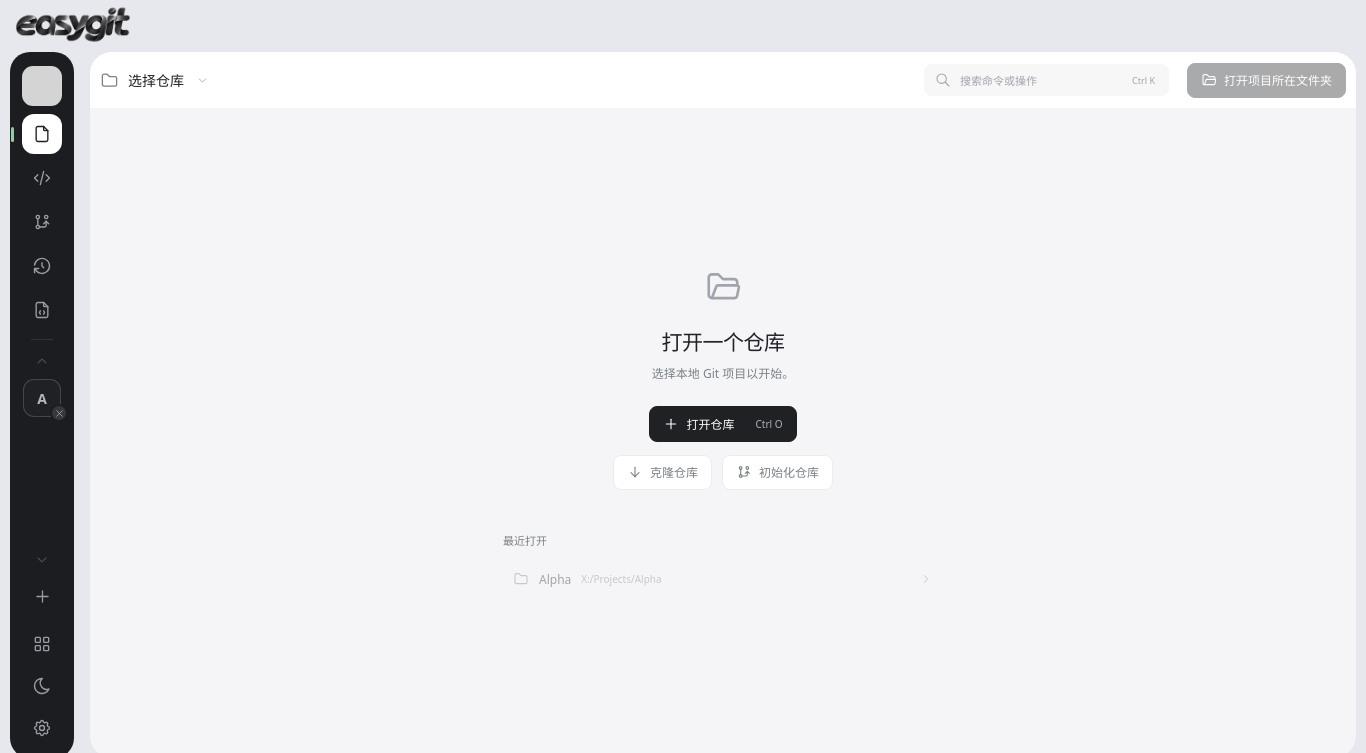
Test: 冲突解决流程 › 版本源码显示行号、差异高亮和对齐占位，跳转差异时同步两侧位置
Click the button "A" at x=42, y=398, box [23, 379, 61, 417]
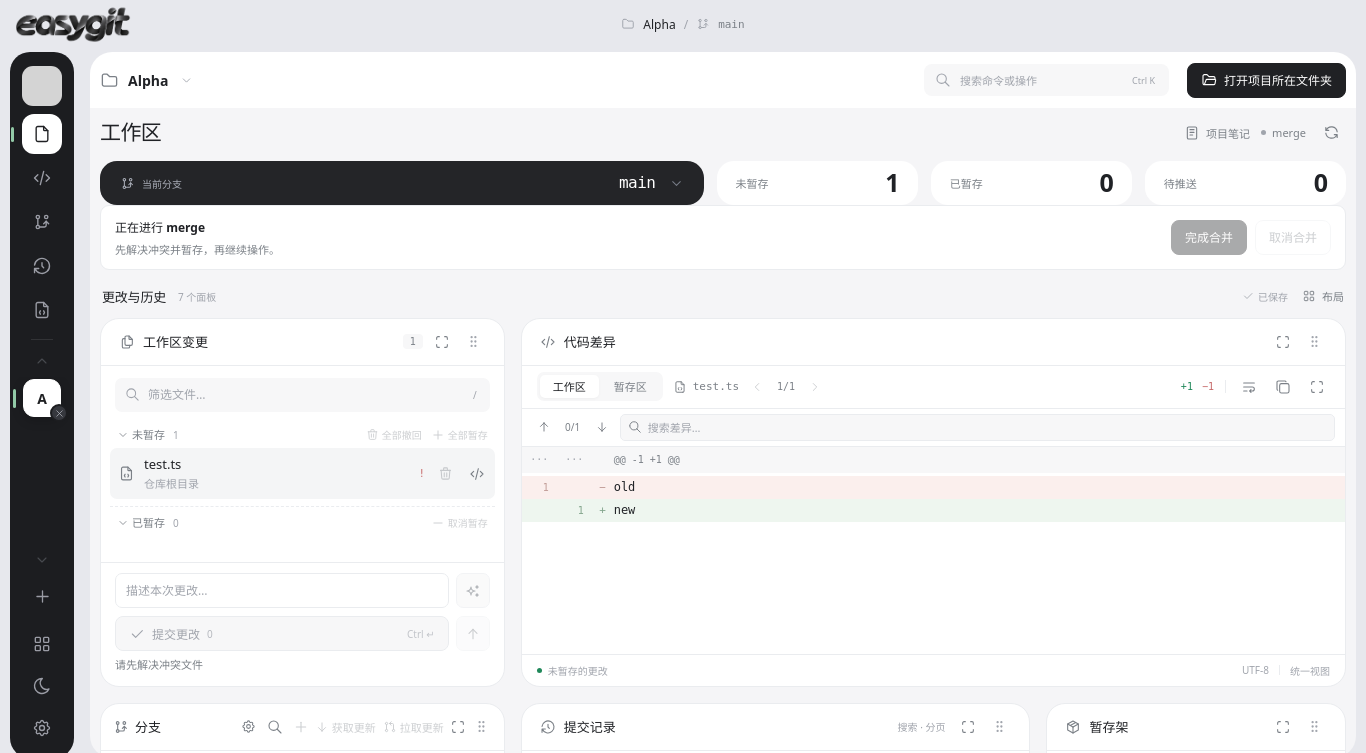
Click the button named "解决冲突 test.ts" at x=477, y=474, box [464, 460, 490, 488]
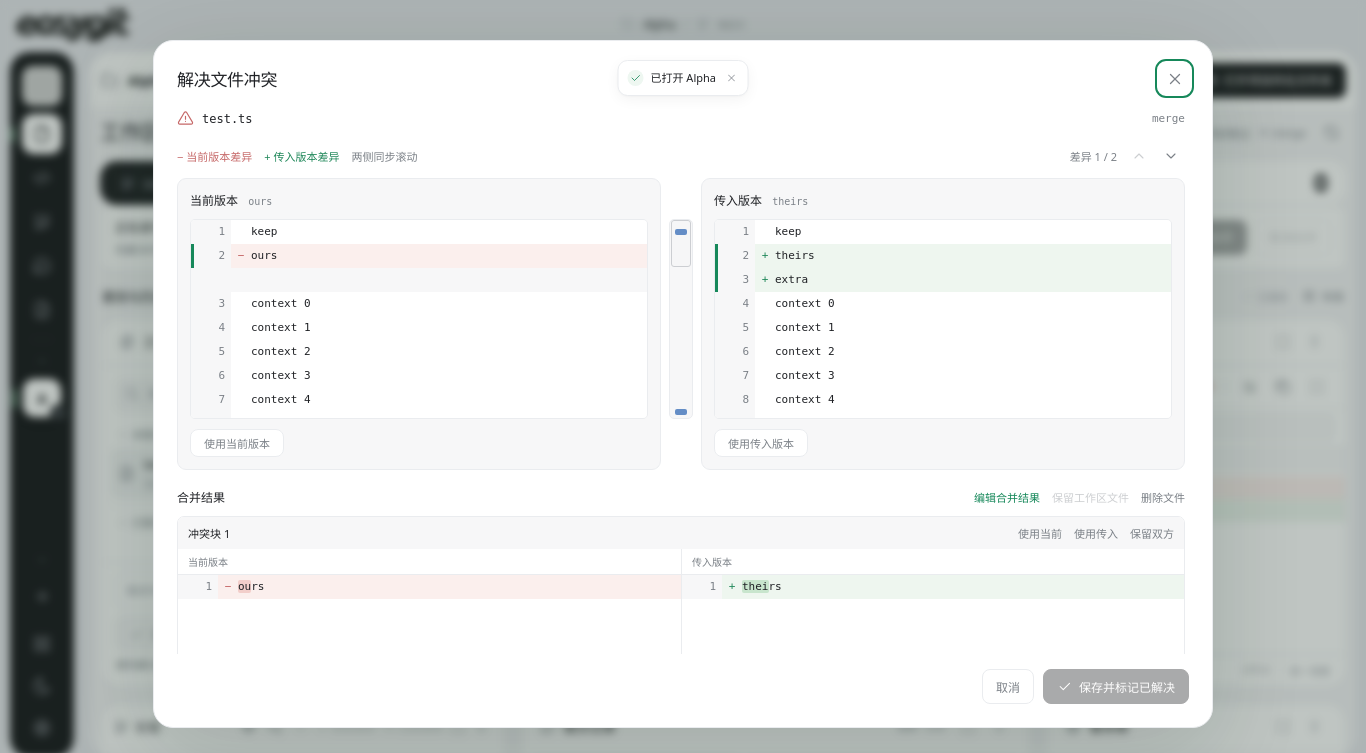
Check: the 2nd text "ours" is shown, box [251, 249, 278, 262]
Check: the 2nd text "theirs" is shown, box [775, 249, 815, 262]
Check: the 1st text with class "conflict-line-number" reads "2", box [218, 249, 225, 262]
Click the button named "下一处差异" at x=1171, y=156, box [1157, 142, 1185, 170]
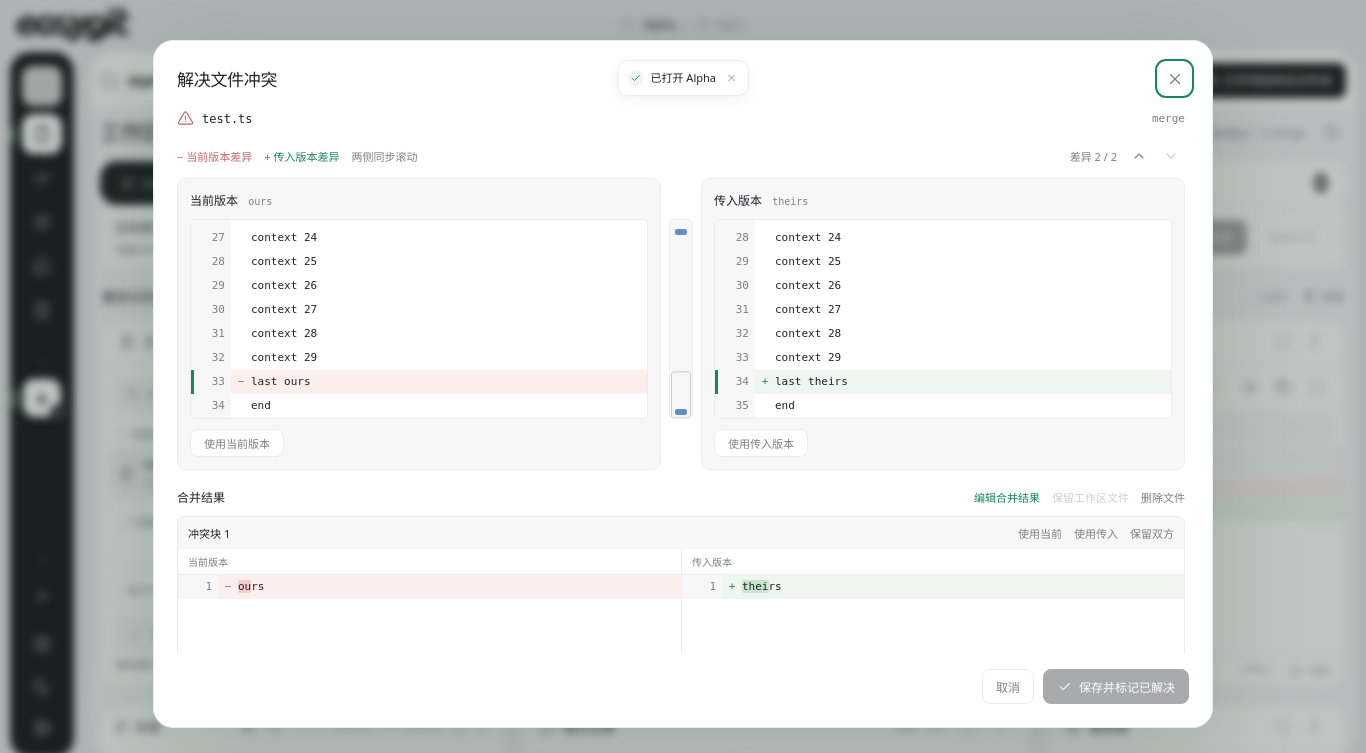
Check: the text "last ours" is shown, box [251, 375, 311, 388]
Check: the text "last theirs" is shown, box [775, 375, 848, 388]
Check: the dialog named "解决文件冲突" shows "差异 2 / 2", box [1070, 149, 1117, 164]
Click the button named "上一处差异" at x=1139, y=156, box [1125, 142, 1153, 170]
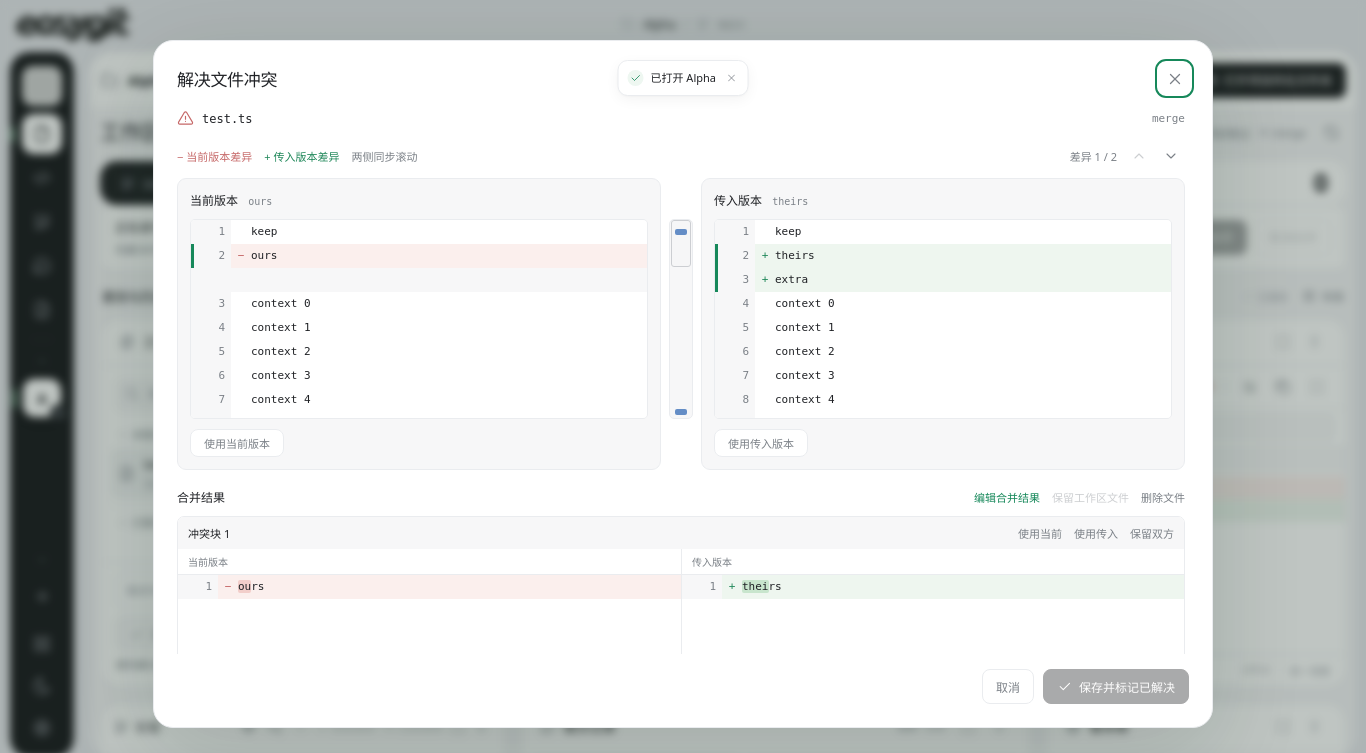
Click the button named "变更块 2：修改，变更后第 34 行，新增 1 行，删除 1 行" at x=681, y=412, box [670, 406, 692, 418]
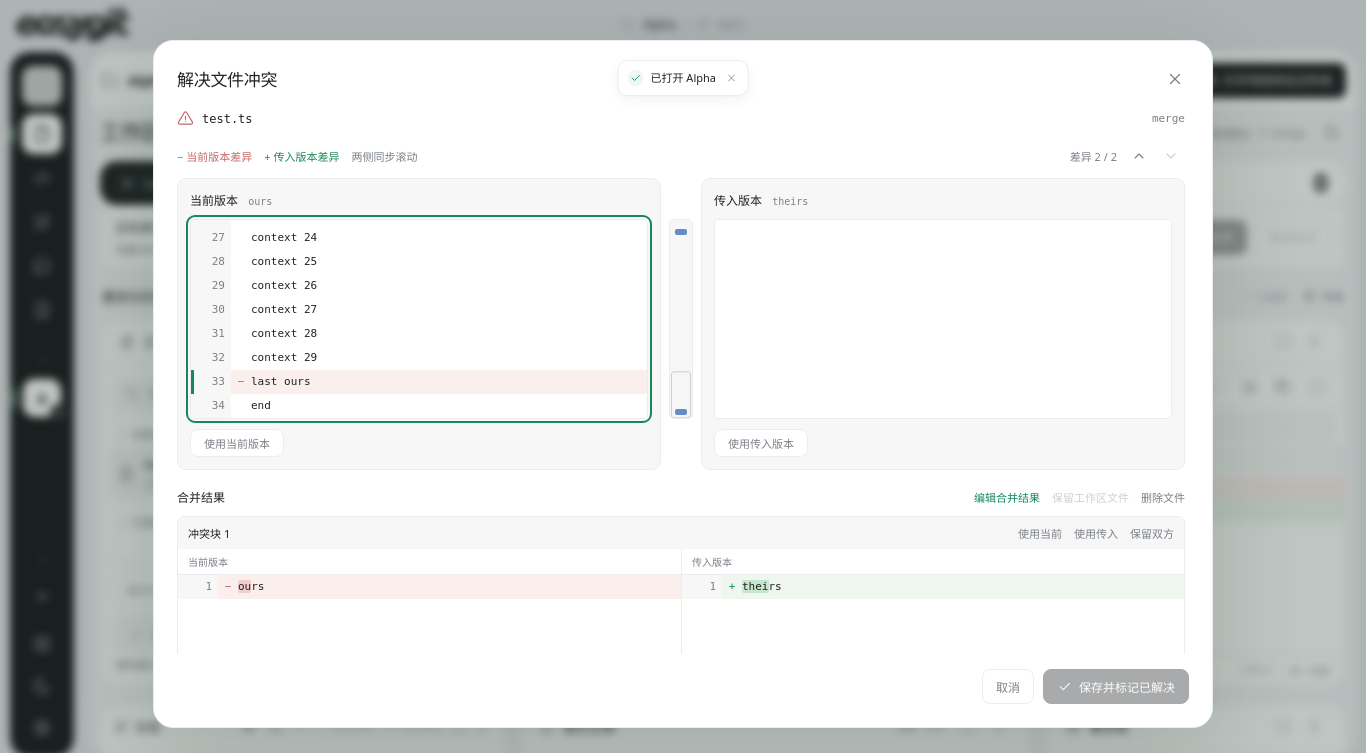
Check: the dialog named "解决文件冲突" shows "差异 2 / 2", box [1070, 149, 1117, 164]
Check: the text "last ours" is shown, box [251, 375, 311, 388]
